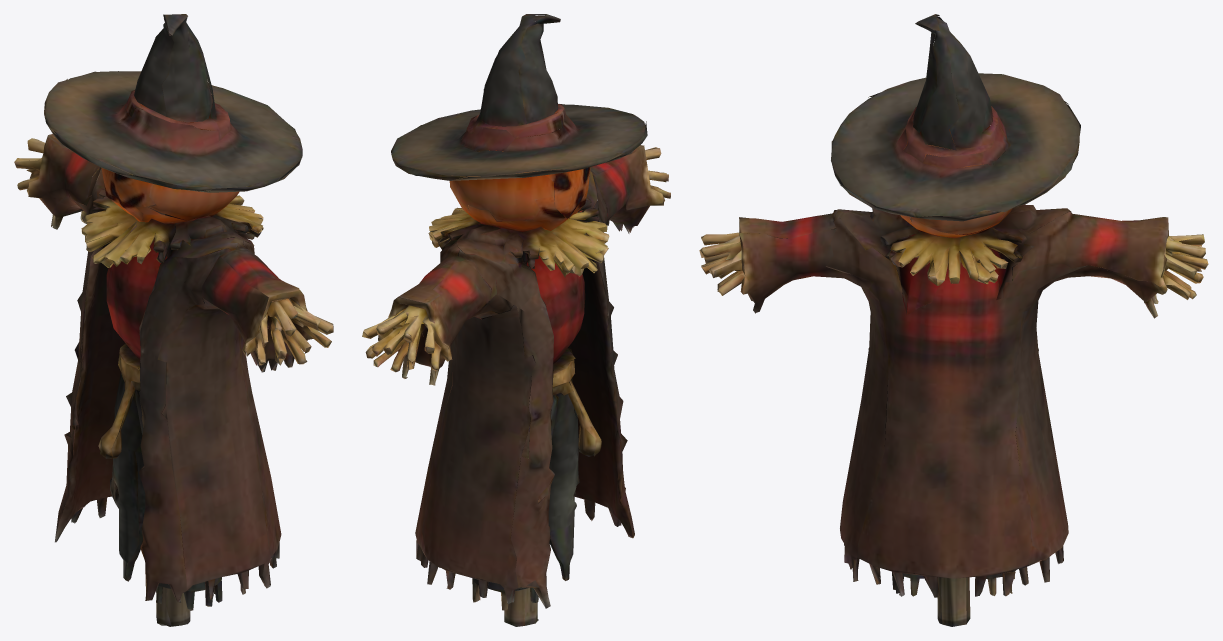
File: hg-scarecrow.glb
The picture shows the model from 3 angles, left to right: view 1: azimuth 30°, elevation 25°; view 2: azimuth 150°, elevation 25°; view 3: azimuth 270°, elevation 25°; orthographic projection. The views are drawn at different scales.
Parts seen in each view (by area): view 1: hg-scarecrow; view 2: hg-scarecrow; view 3: hg-scarecrow.
Part boxes in pixels (x1,y1,x2,y2): hg-scarecrow: (14, 14, 333, 626); hg-scarecrow: (362, 14, 670, 626); hg-scarecrow: (699, 14, 1208, 626).
Size of the model in its own units: 1.09 by 2.85 by 2.2.
1 material, 1 textured.
